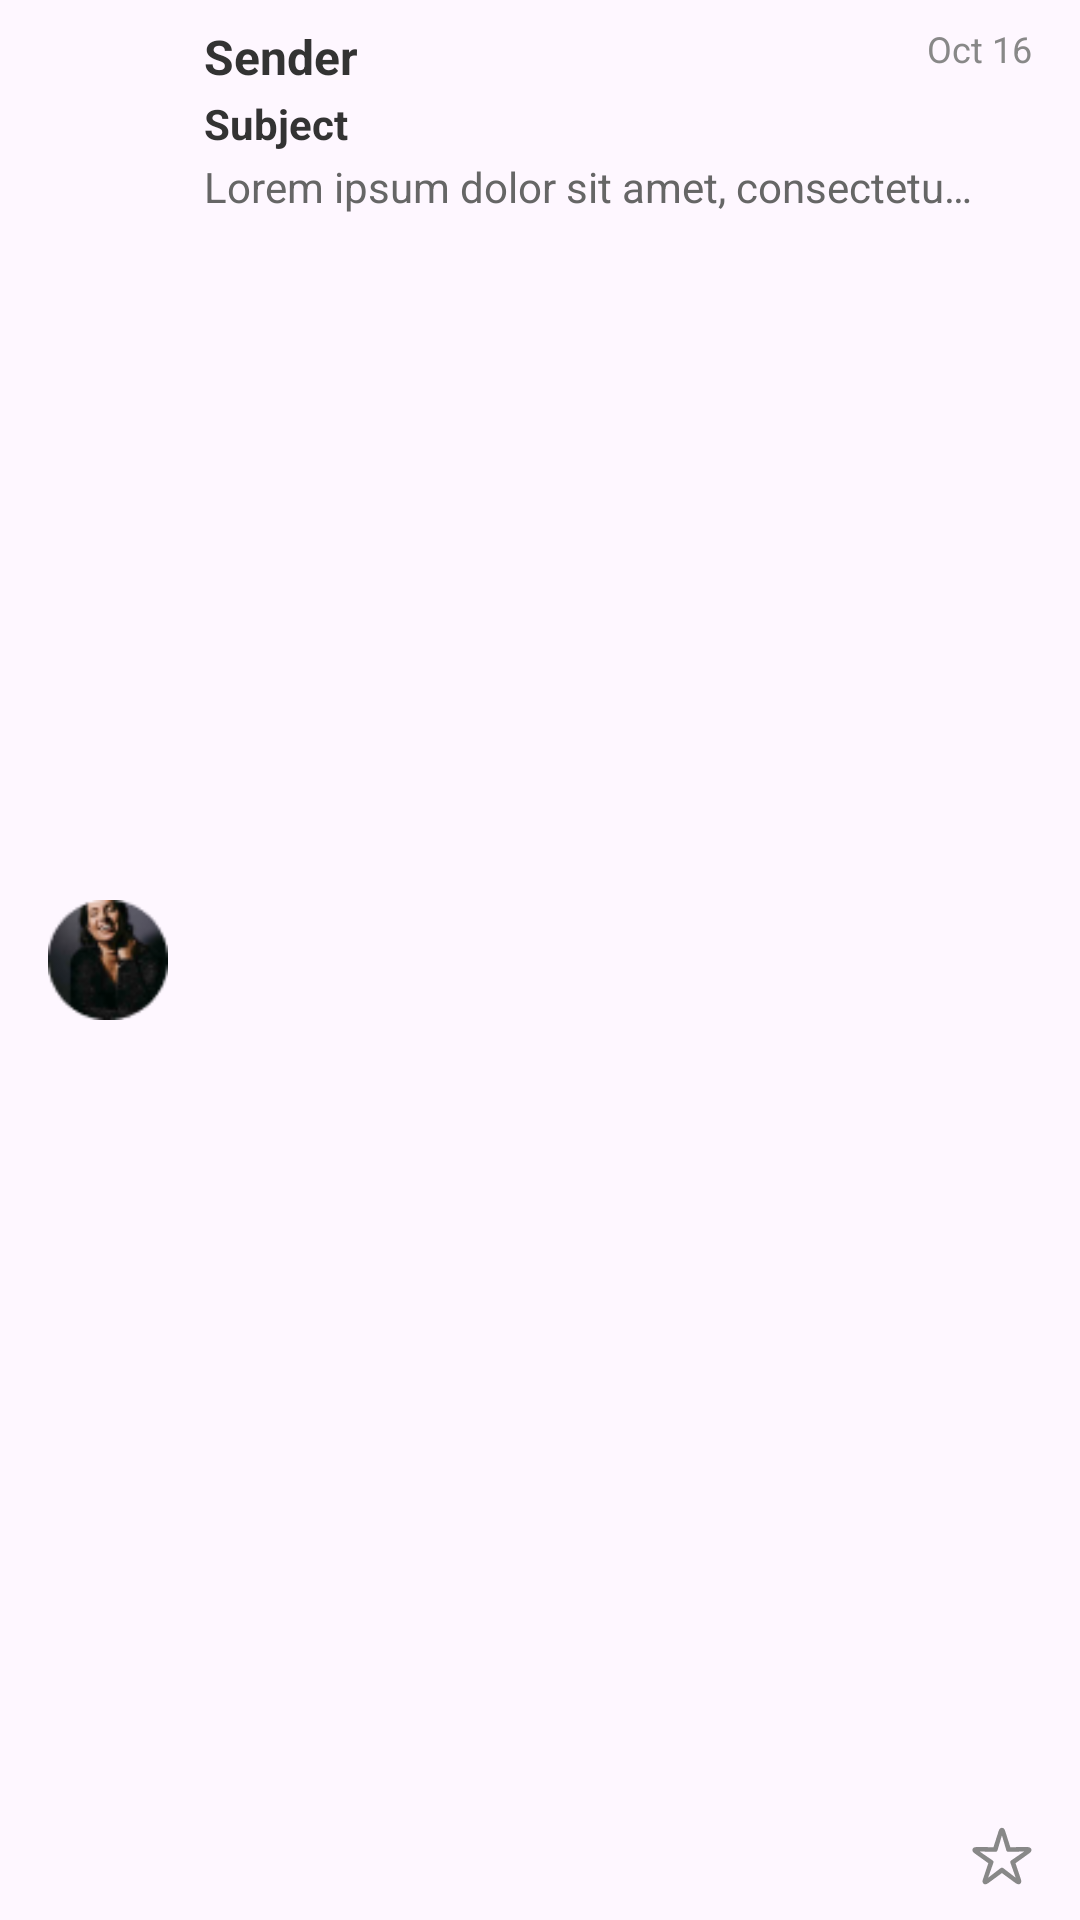

Locate icon controls on the screen. Image size 1080 x 1920, boxes as (x1, y1, x2, y2).
profile picture: (48, 900, 168, 1020)
star: (972, 1828, 1032, 1885)
